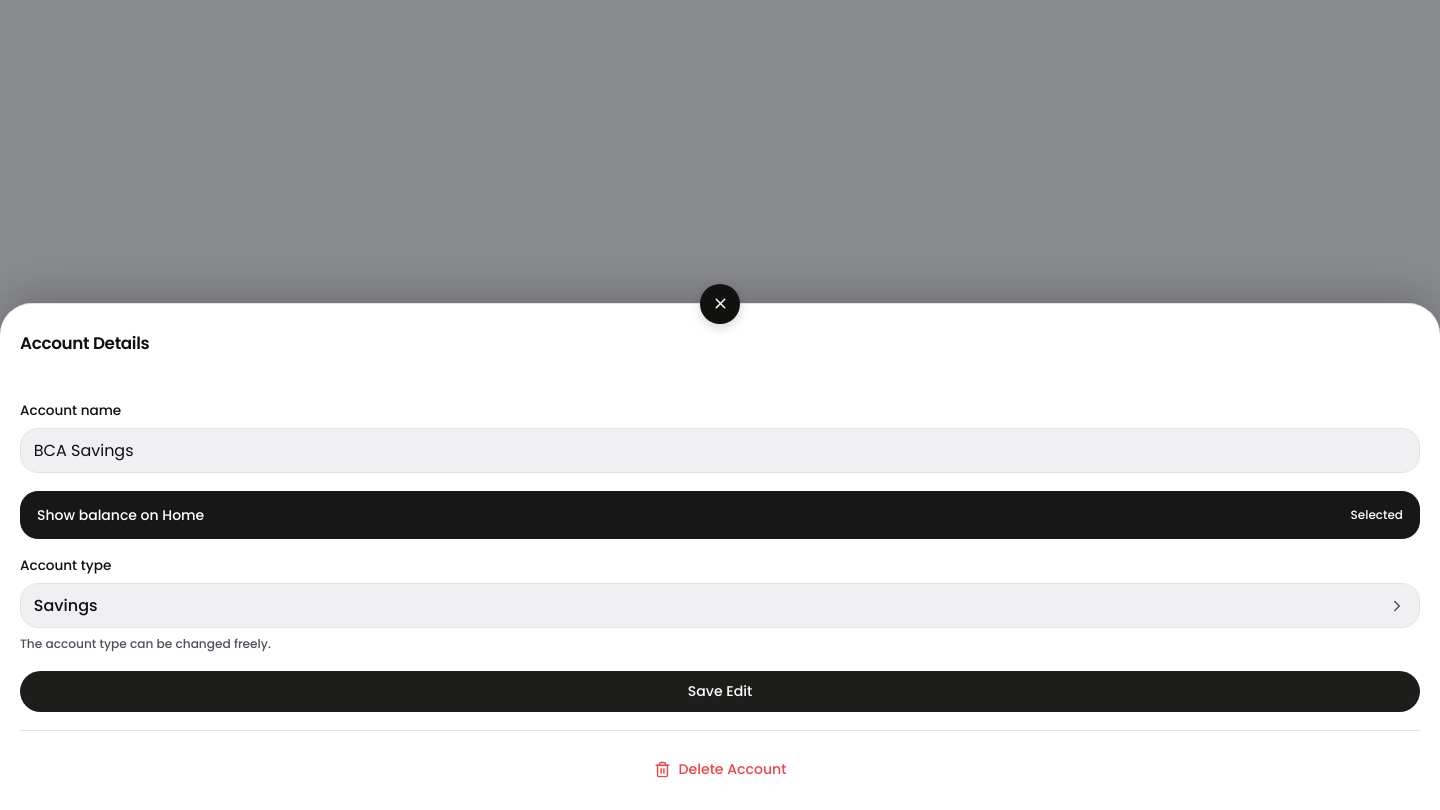
Test: AccountDetailSheet › opens the account type curtain and selects a type
Click the button "Savings": (66, 605) top-left (20, 583), bottom-right (1420, 628)
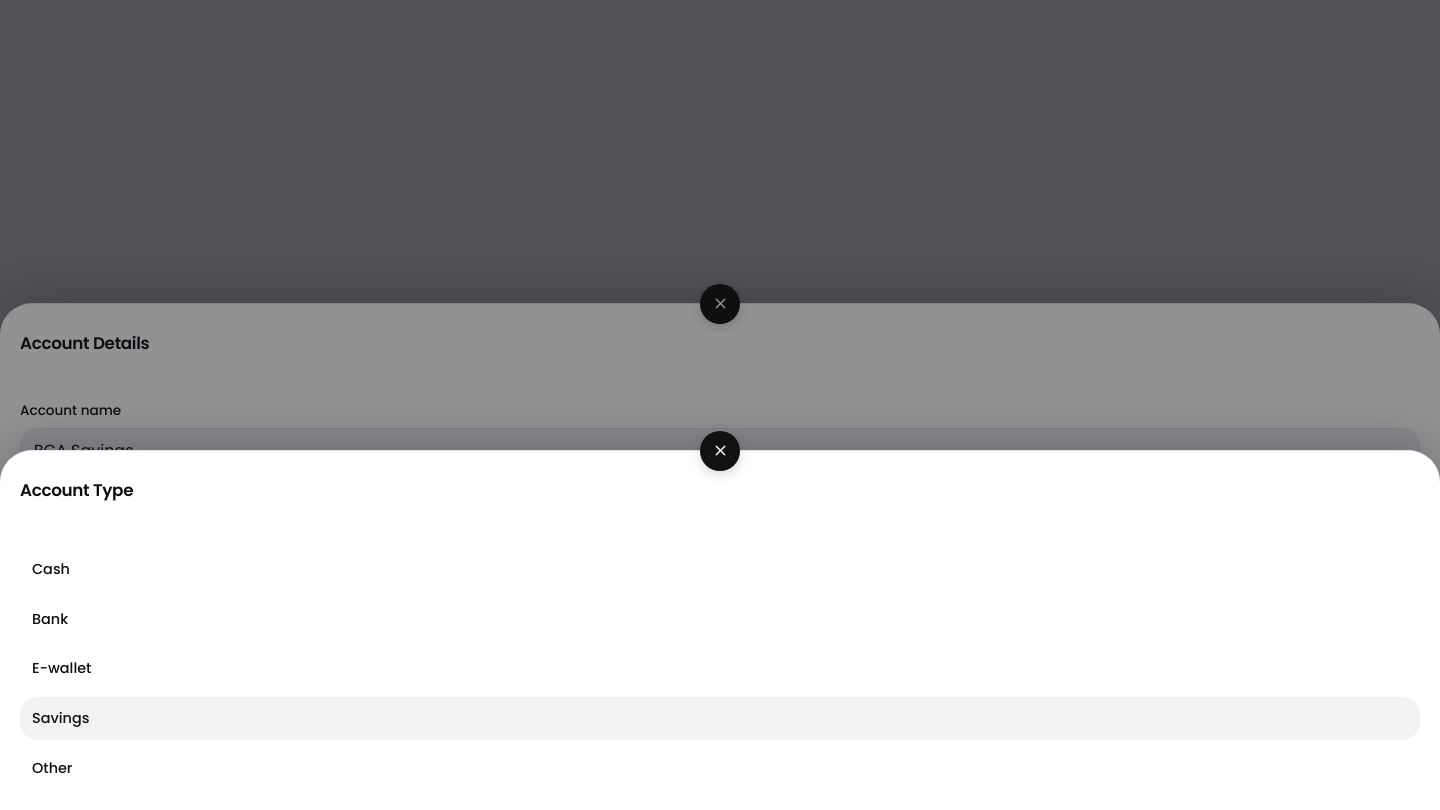
Expected: the dialog named "Choose account type" is shown
Expected: the button "Cash" is shown
Expected: the button "E-wallet" is shown, top-left (20, 648), bottom-right (1420, 691)
Click the button "Cash": (51, 569) top-left (20, 548), bottom-right (1420, 592)
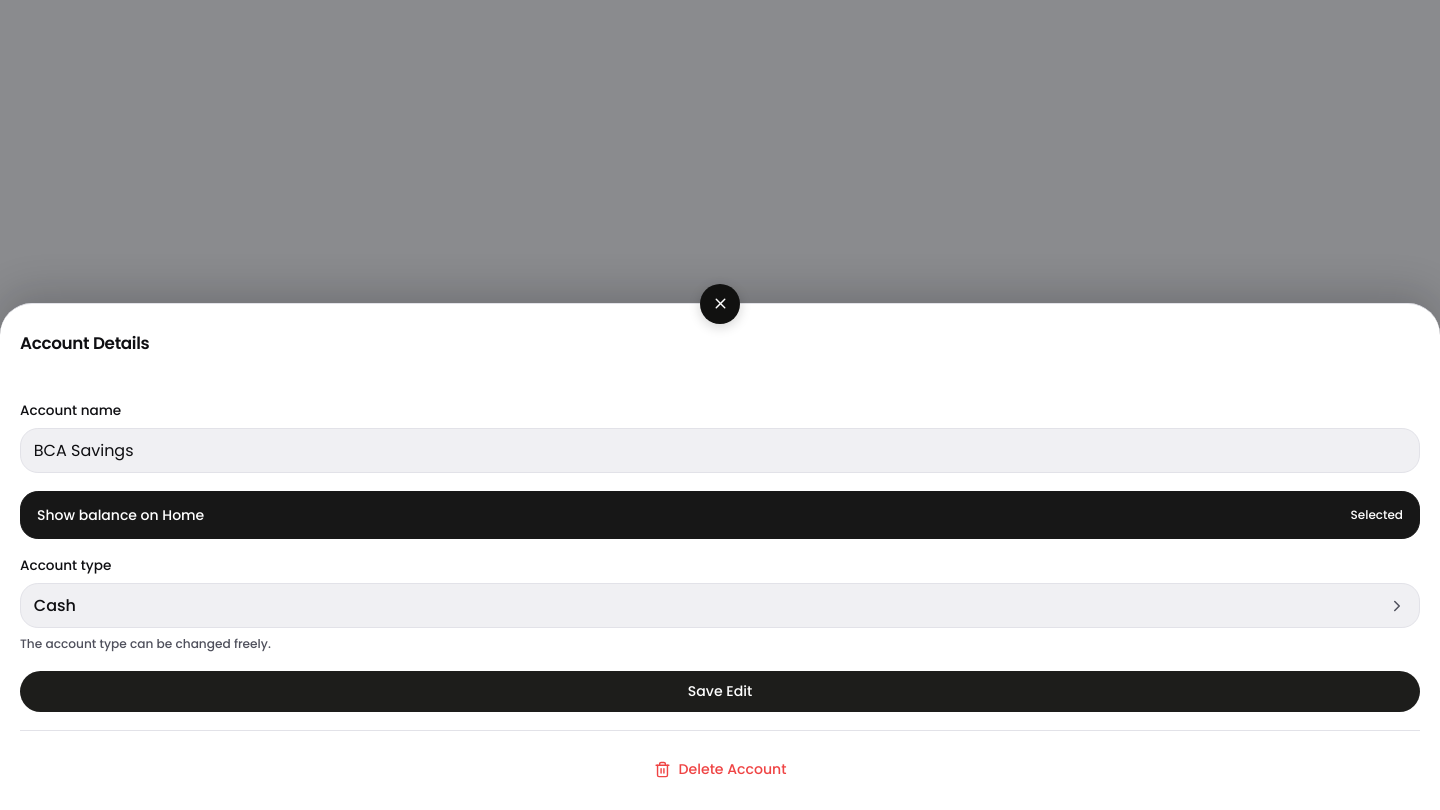
Expected: the text "Cash" is shown, top-left (34, 594), bottom-right (76, 618)
